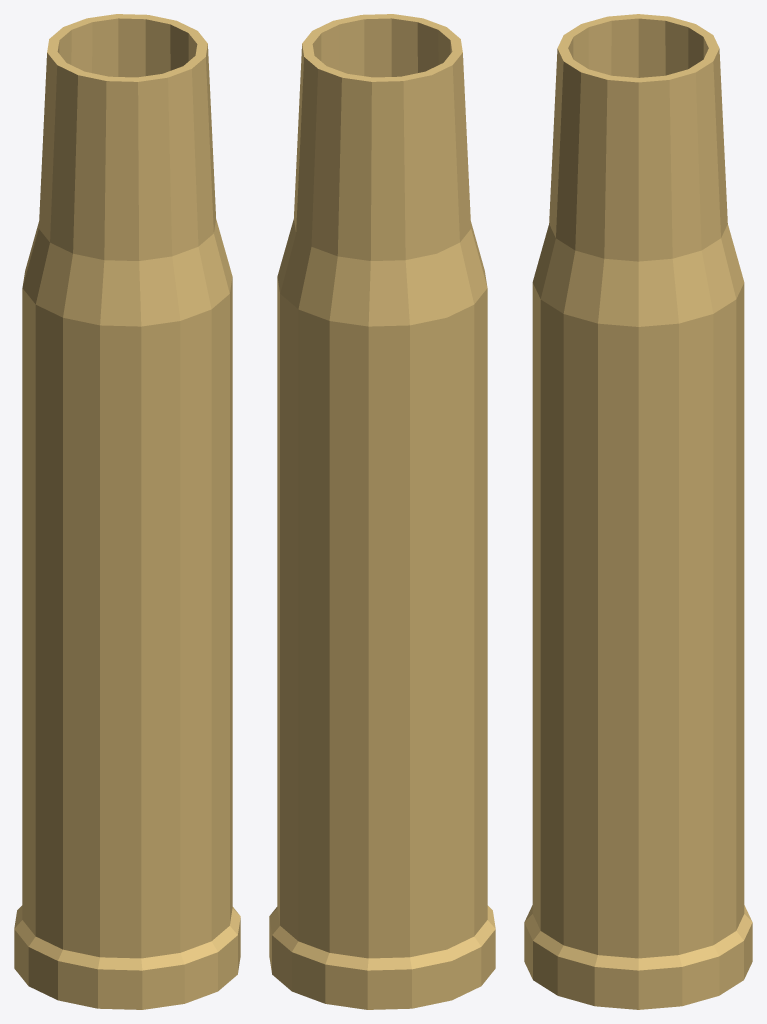
File: 5.56x45mm Shell.fbx
3 renders of one model, left to right at view 1: azimuth 30°, elevation 25°; view 2: azimuth 150°, elevation 25°; view 3: azimuth 270°, elevation 25°, orthographic.
Parts seen in each view (by area): view 1: Cylinder.014; view 2: Cylinder.014; view 3: Cylinder.014.
Boxes of the visible parts, x1,y1,x2,y2 form: Cylinder.014: (14, 14, 240, 1009); Cylinder.014: (269, 14, 495, 1009); Cylinder.014: (524, 14, 752, 1009).
Size of the model in its own units: 0.9896 by 4.38 by 0.9896.
